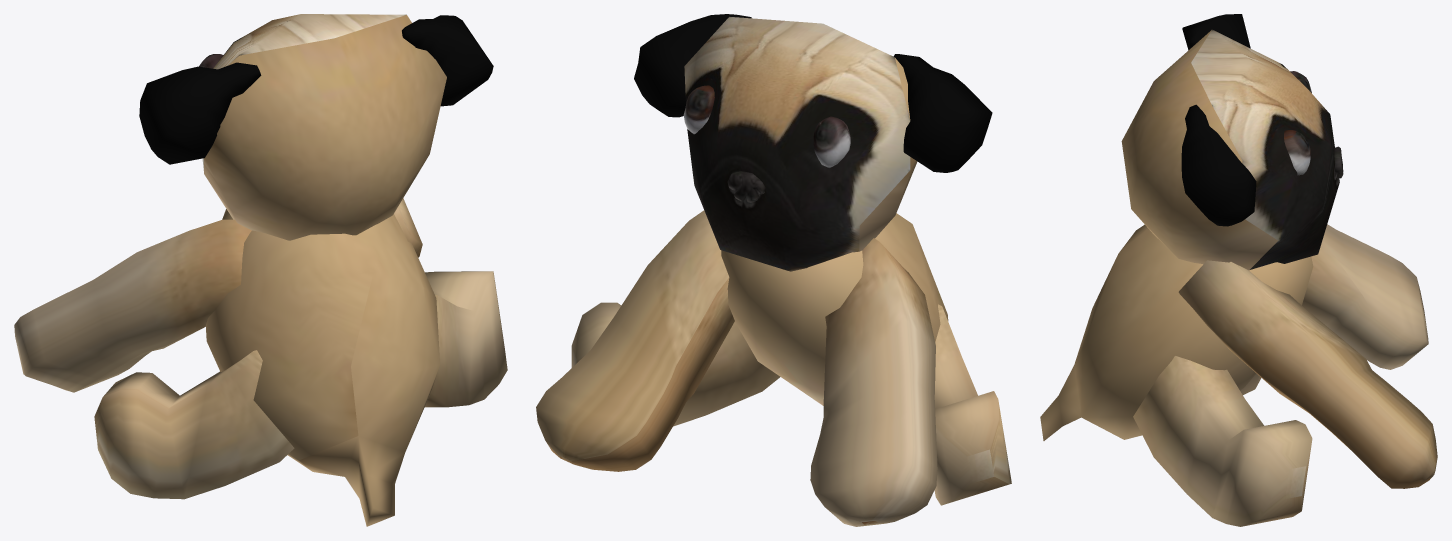
The model's file is PlushieOtisPugAZ.fbx.
The picture shows the model from 3 angles, left to right: view 1: azimuth 30°, elevation 25°; view 2: azimuth 150°, elevation 25°; view 3: azimuth 270°, elevation 25°; orthographic projection. The views are drawn at different scales.
Parts seen in each view (by area): view 1: Cube.002; view 2: Cube.002; view 3: Cube.002.
Boxes of the visible parts, left/top/right/bottom form: Cube.002: left=14, top=14, right=507, bottom=526; Cube.002: left=536, top=14, right=1011, bottom=526; Cube.002: left=1040, top=14, right=1437, bottom=526.
Size of the model in its own units: 0.2089 by 0.2048 by 0.1853.
